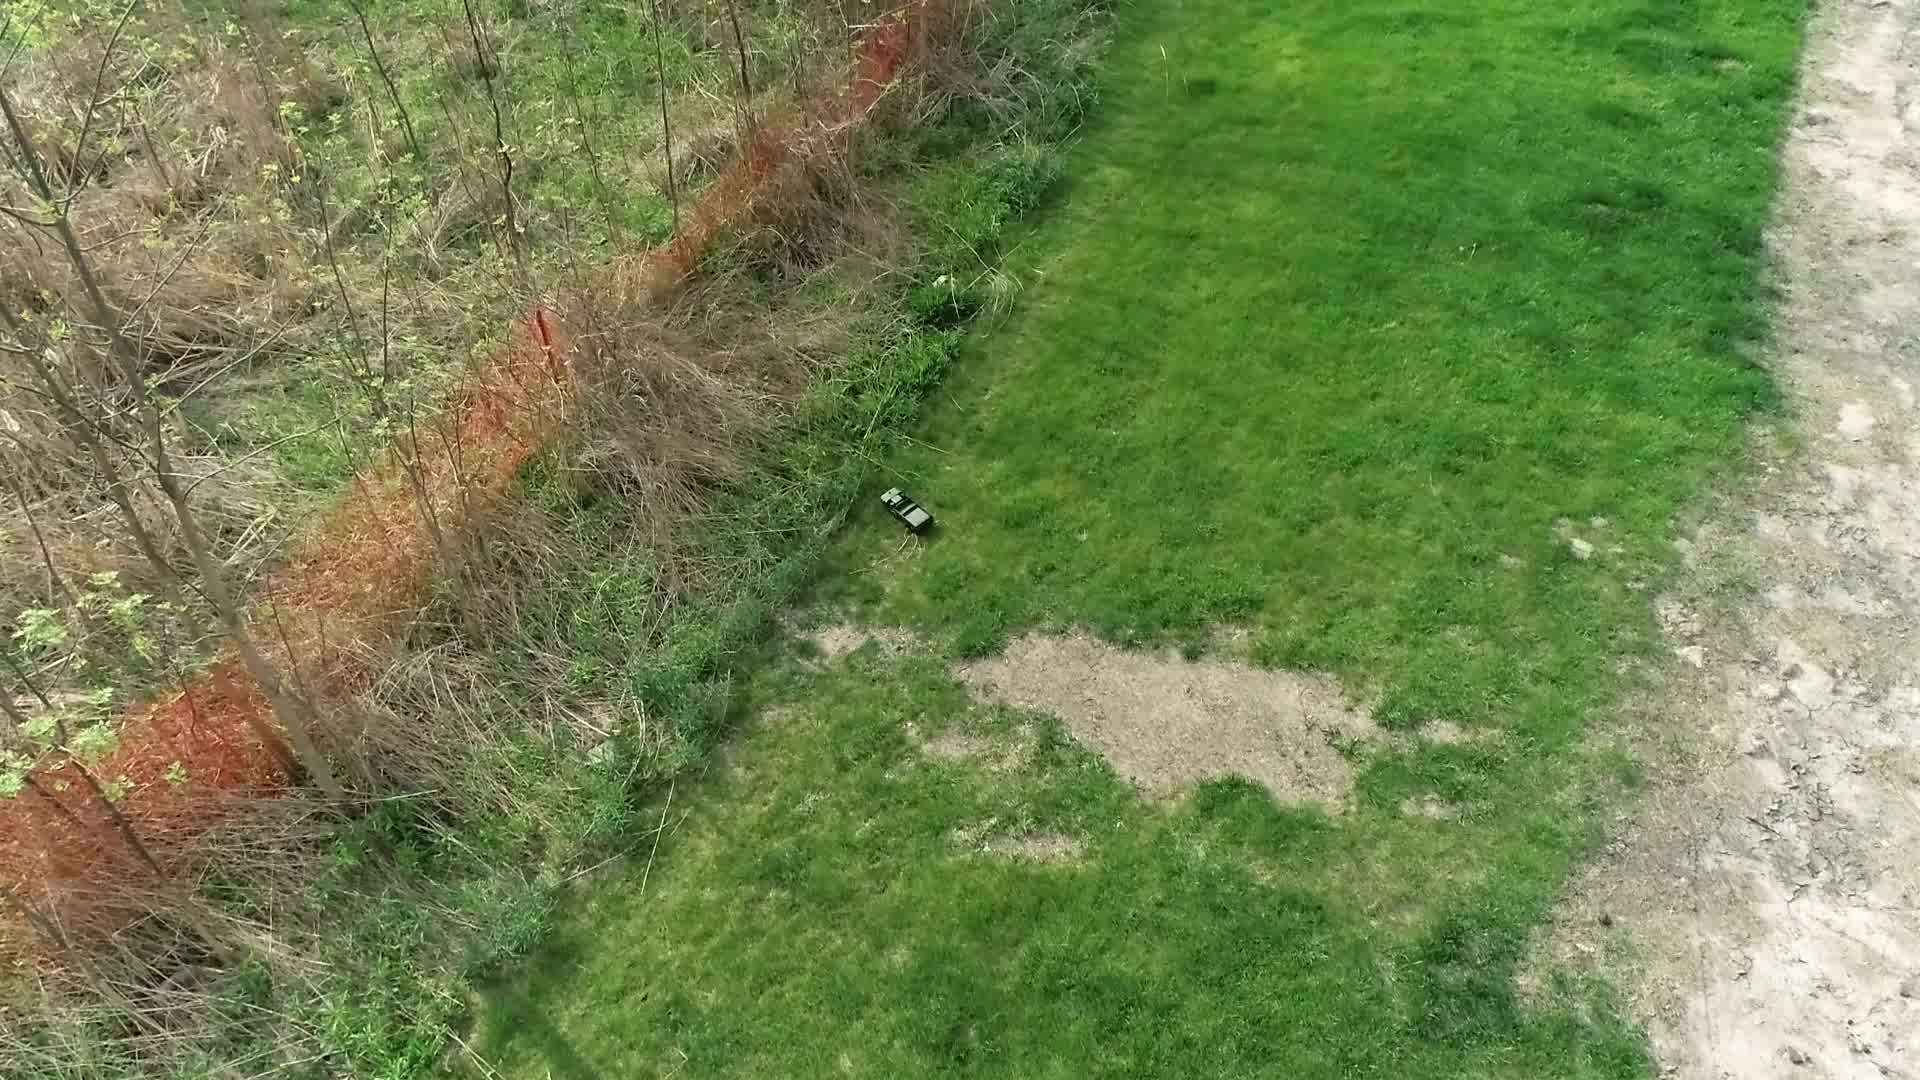transporter9: (881, 487, 938, 535)
